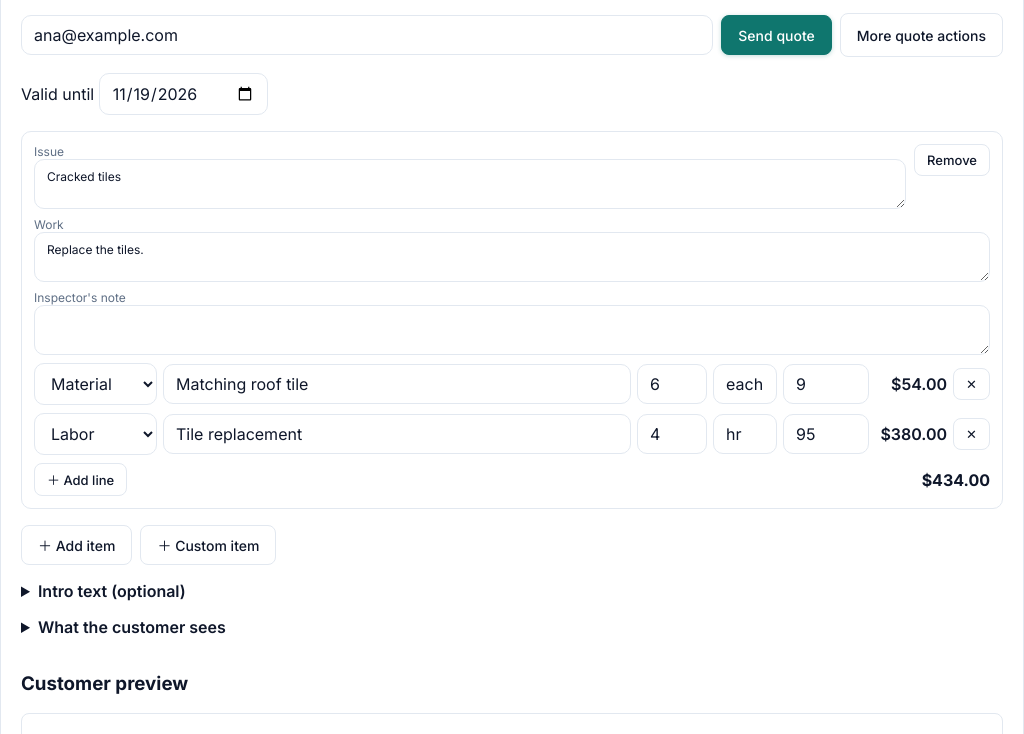
it: QuotePanel › editing a price recomputes the total and the draft autosaves the new line prices (no Save click)
The image size is (1024, 734).
(page scrolled)
Replace the text in the 1st field named "Unit price" with "10". click: (826, 384)
box: [783, 364, 869, 404]
Wait 1000 ms
(page scrolled)
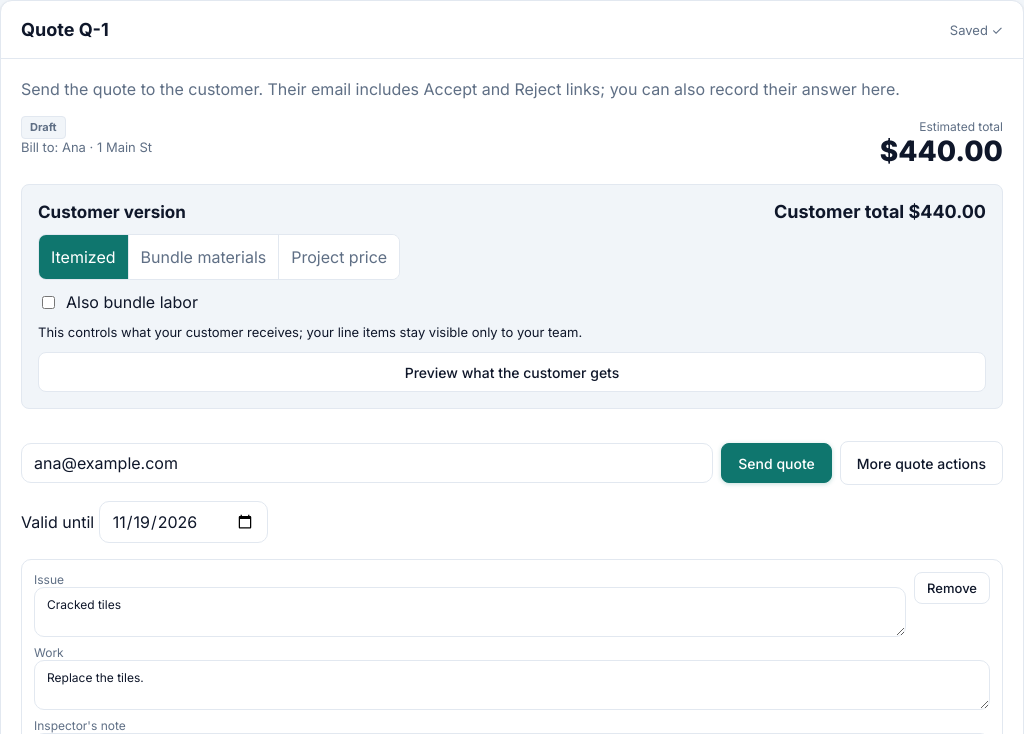
Expected: the text "$440.00" is shown, [880, 134, 1003, 168]
